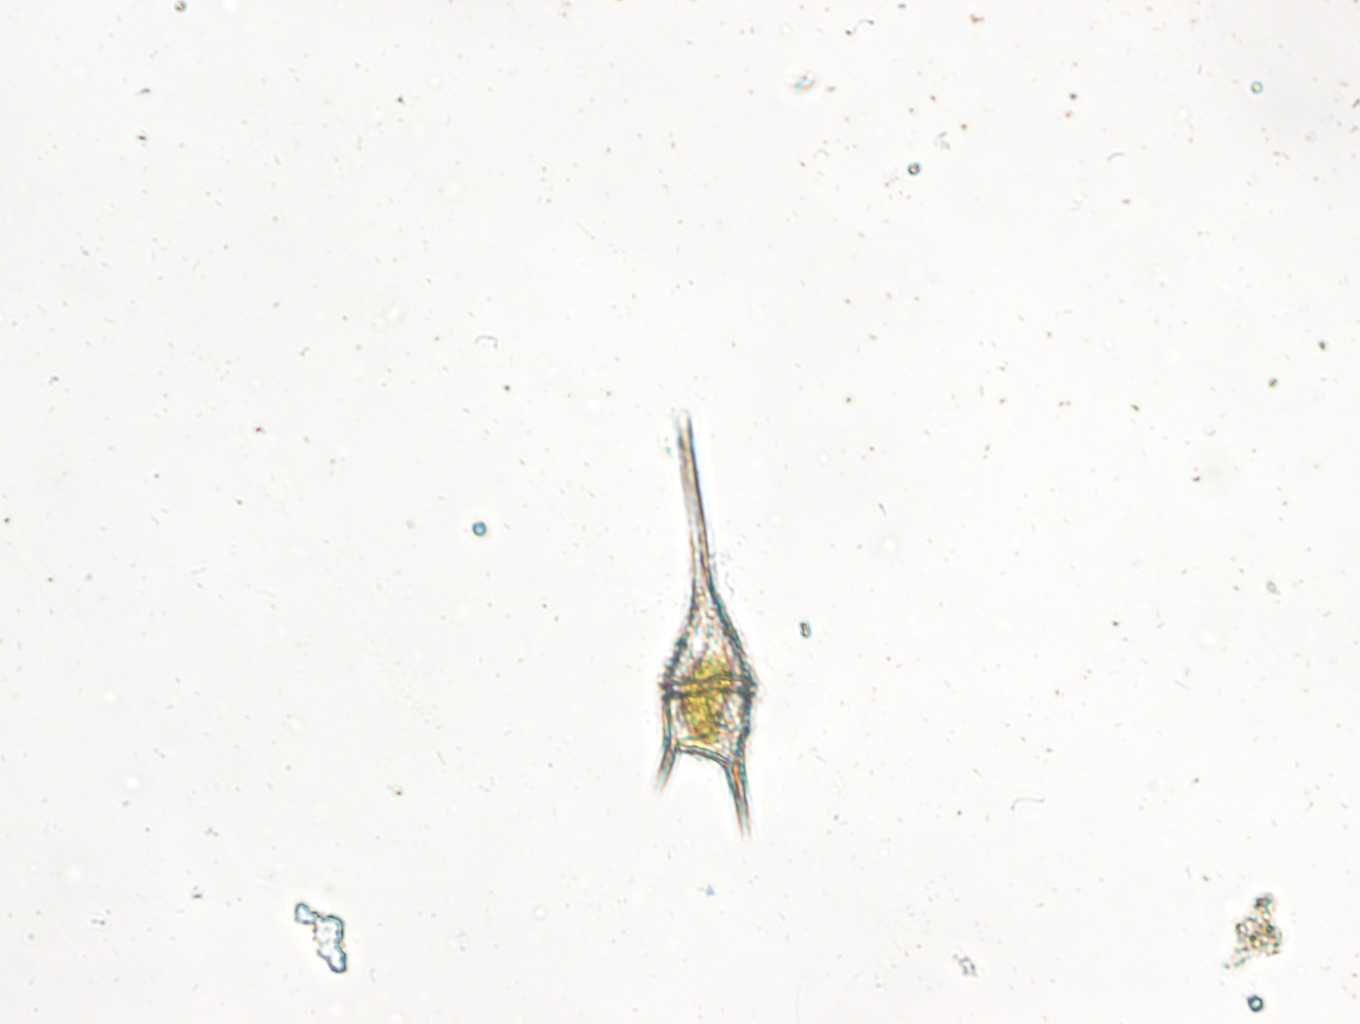ceratium furca: (645, 406, 765, 853)
